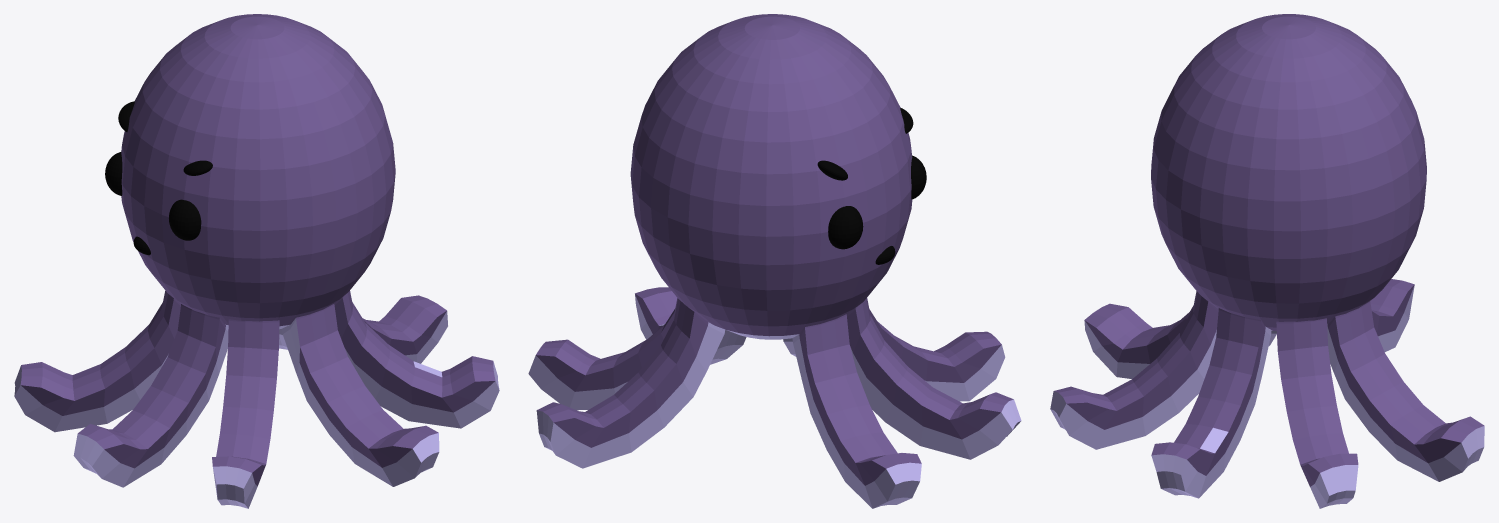
The model's file is set_purple_octboy.glb.
3 renders of one model, left to right at view 1: azimuth 30°, elevation 25°; view 2: azimuth 150°, elevation 25°; view 3: azimuth 270°, elevation 25°, orthographic. The views are drawn at different scales.
Parts seen in each view (by area): view 1: purple oct; view 2: purple oct; view 3: purple oct.
Boxes of the visible parts, left/top/right/bottom form: purple oct: left=14, top=14, right=499, bottom=508; purple oct: left=528, top=14, right=1021, bottom=508; purple oct: left=1050, top=14, right=1484, bottom=508.
Size of the model in its own units: 3.91 by 3.54 by 3.49.
